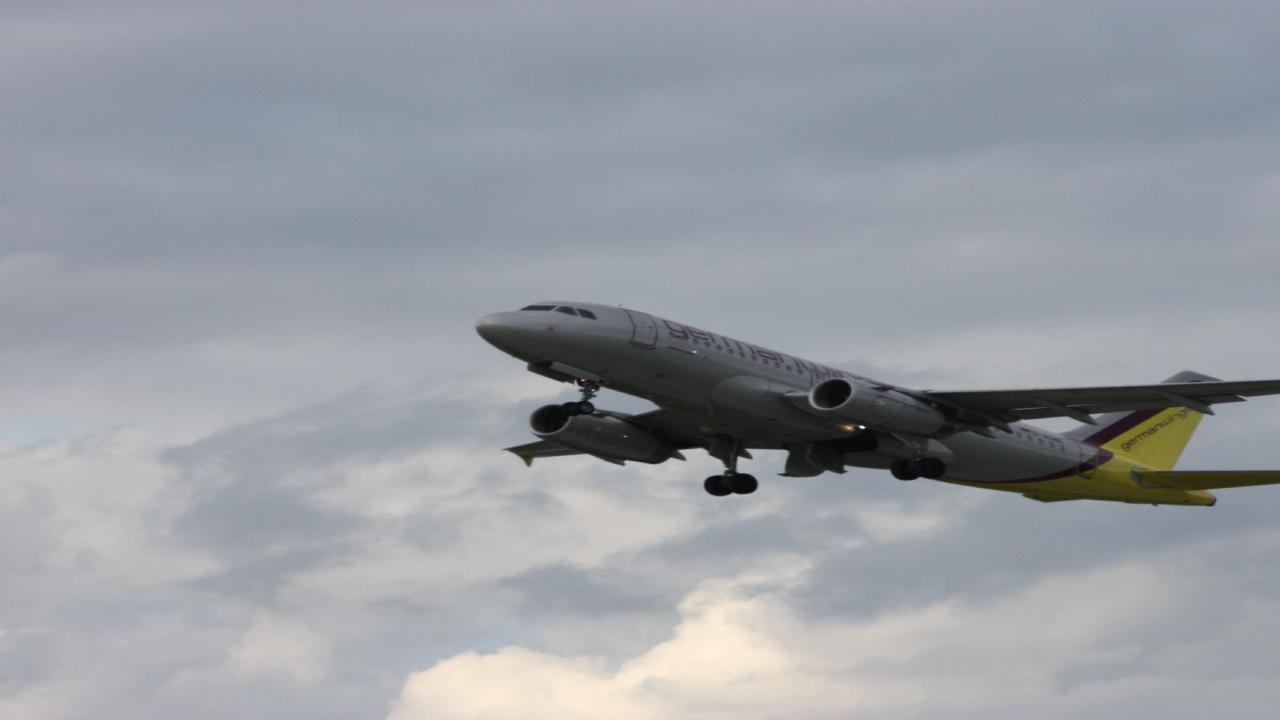Airplane: (449, 283, 1280, 523)
